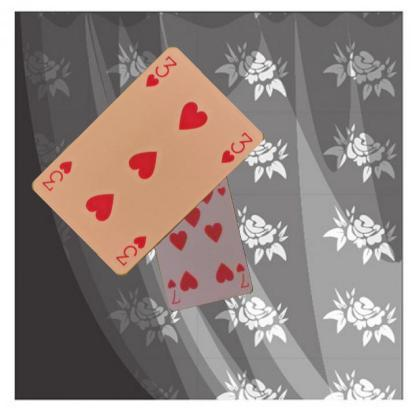3h: (142, 53, 178, 89), (113, 233, 148, 268)
7h: (232, 260, 250, 289)
